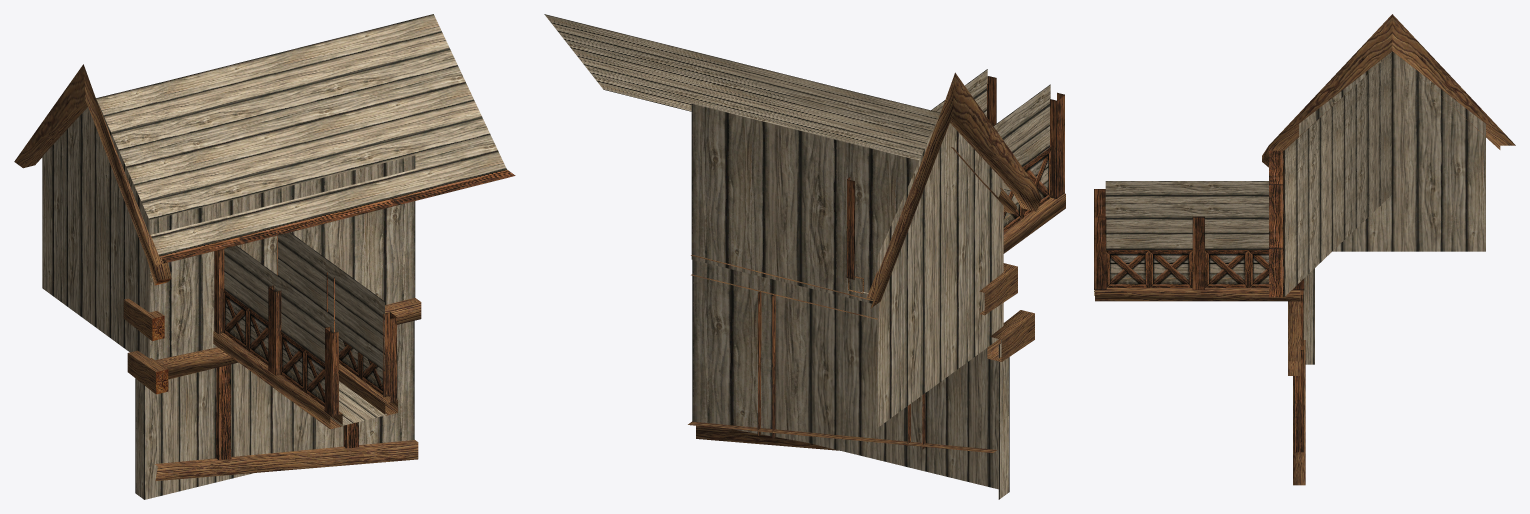
The model's file is LAKETOWN_EXTERIOR_PS_LT_FISHRAMP978__GX.fbx.
The picture shows the model from 3 angles, left to right: view 1: azimuth 30°, elevation 25°; view 2: azimuth 150°, elevation 25°; view 3: azimuth 270°, elevation 25°; orthographic projection. The views are drawn at different scales.
Parts seen in each view (by area): view 1: LAKETOWN_EXTERIOR_PS_LT_FISHRAMP978__GX; view 2: LAKETOWN_EXTERIOR_PS_LT_FISHRAMP978__GX; view 3: LAKETOWN_EXTERIOR_PS_LT_FISHRAMP978__GX.
Part boxes in pixels (x1,y1,x2,y2): LAKETOWN_EXTERIOR_PS_LT_FISHRAMP978__GX: [14, 14, 515, 499]; LAKETOWN_EXTERIOR_PS_LT_FISHRAMP978__GX: [544, 14, 1065, 499]; LAKETOWN_EXTERIOR_PS_LT_FISHRAMP978__GX: [1094, 14, 1515, 485].
Size of the model in its own units: 87609 by 97657 by 101546.
6 materials, 6 textured.
